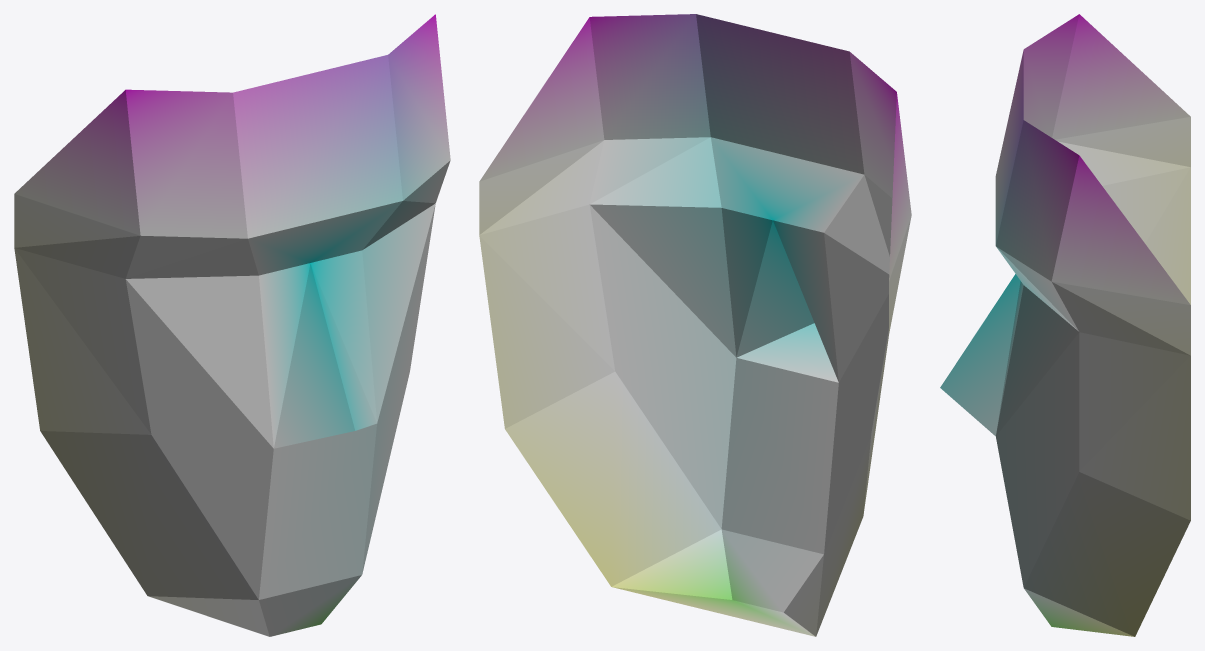
3 renders of one model, left to right at view 1: azimuth 30°, elevation 25°; view 2: azimuth 150°, elevation 25°; view 3: azimuth 270°, elevation 25°, orthographic. The views are drawn at different scales.
Parts seen in each view (by area): view 1: model_13EC; view 2: model_13EC; view 3: model_13EC.
Part boxes in pixels (<box>): model_13EC: <box>14,14,450,636</box>; model_13EC: <box>479,14,911,636</box>; model_13EC: <box>940,14,1190,636</box>.
Size of the model in its own units: 16 by 21 by 9.
